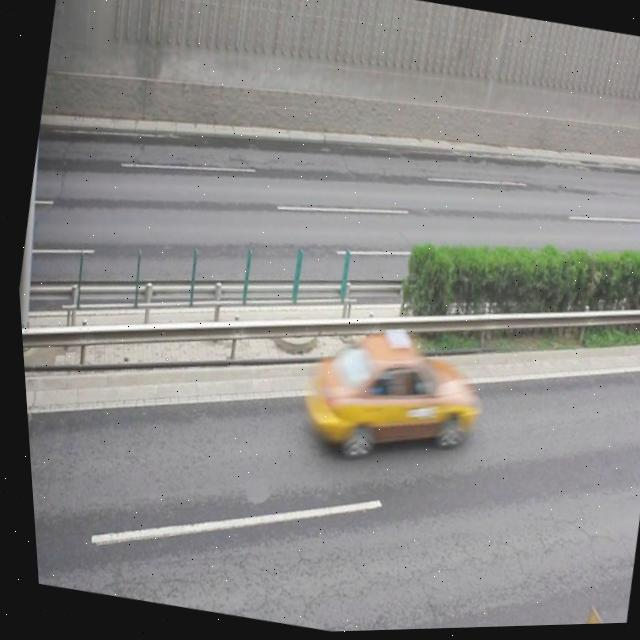car: (287, 316, 486, 480)
